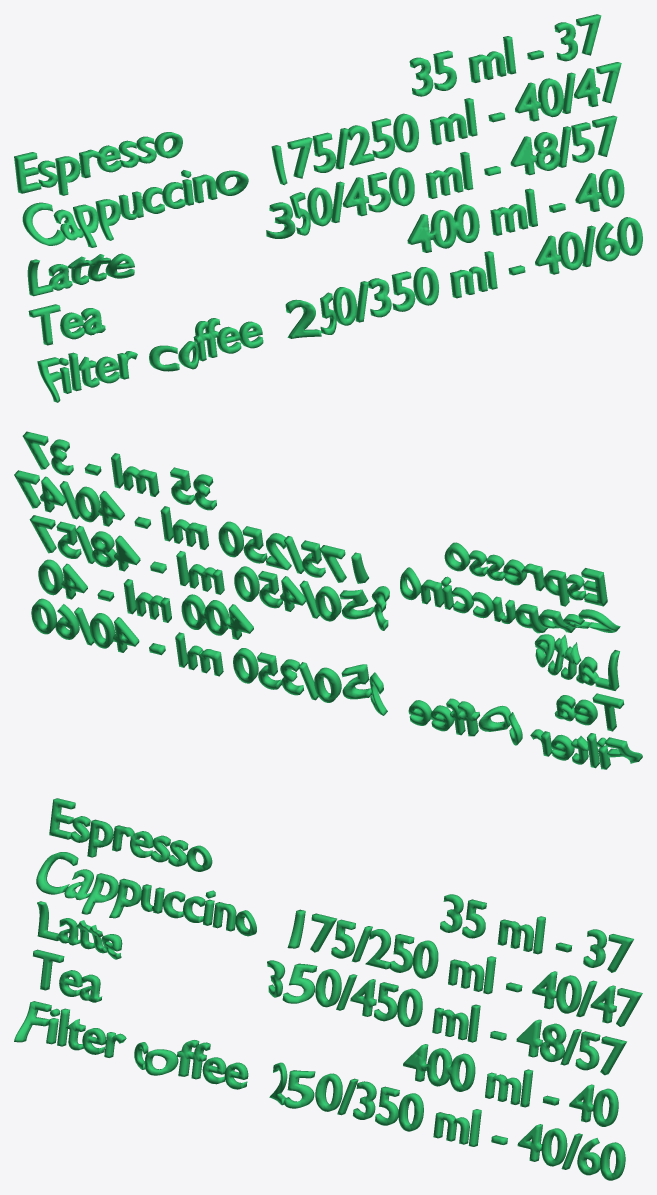
The model's file is cuba.obj.
The picture shows the model from 3 angles, top to bottom: view 1: azimuth 30°, elevation 25°; view 2: azimuth 150°, elevation 25°; view 3: azimuth 330°, elevation 25°; orthographic projection.
Parts seen in each view (by area): view 1: Text; view 2: Text; view 3: Text.
Boxes of the visible parts, bbox=[...] form: Text: bbox=[14, 14, 642, 402]; Text: bbox=[14, 431, 642, 769]; Text: bbox=[14, 798, 642, 1180].
Bounding box in the file's own units: 13.08 × 4.64 × 1.65.
